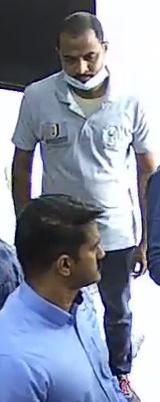no_apron: (1, 210, 128, 402), (26, 25, 140, 236)
